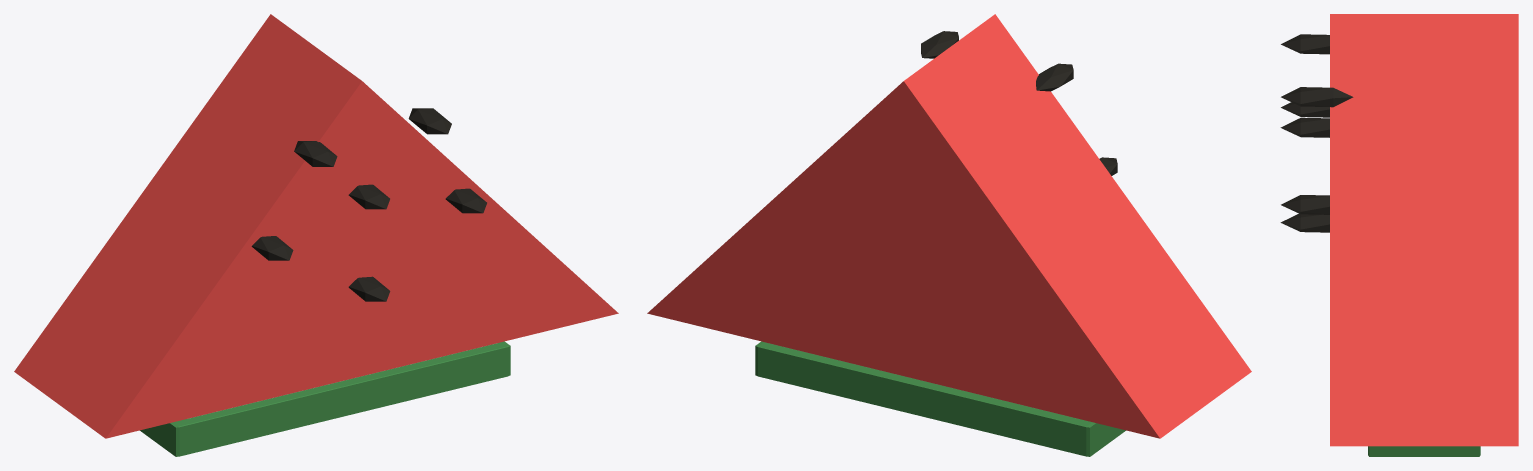
Rendered from watermelon-wedge.glb.
3 views of the same model, side by side, from view 1: azimuth 30°, elevation 25°; view 2: azimuth 150°, elevation 25°; view 3: azimuth 270°, elevation 25° (orthographic). The views are drawn at different scales.
Parts seen in each view (by area): view 1: red triangular watermelon flesh, green outer rind band, black watermelon seed.004, black watermelon seed.003, black watermelon seed.002, black watermelon seed.001, black watermelon seed.005, black watermelon seed; view 2: red triangular watermelon flesh, green outer rind band, black watermelon seed.003, black watermelon seed.004; view 3: red triangular watermelon flesh, green outer rind band, black watermelon seed.004, black watermelon seed.001, black watermelon seed.003, black watermelon seed.002, black watermelon seed.005, black watermelon seed.
Part boxes in pixels (box(x1,y1,x2,y2)): red triangular watermelon flesh: box(14, 14, 618, 438); green outer rind band: box(140, 341, 510, 456); black watermelon seed.004: box(408, 108, 451, 134); black watermelon seed.003: box(294, 141, 337, 166); black watermelon seed.002: box(445, 188, 486, 213); black watermelon seed.001: box(348, 184, 389, 209); black watermelon seed.005: box(348, 276, 390, 301); black watermelon seed: box(251, 236, 293, 260); red triangular watermelon flesh: box(647, 14, 1251, 438); green outer rind band: box(755, 341, 1125, 456); black watermelon seed.003: box(1036, 63, 1073, 91); black watermelon seed.004: box(921, 31, 958, 58); red triangular watermelon flesh: box(1330, 14, 1518, 446); green outer rind band: box(1368, 446, 1480, 456); black watermelon seed.004: box(1281, 87, 1353, 107); black watermelon seed.001: box(1280, 117, 1329, 137); black watermelon seed.003: box(1281, 34, 1329, 54); black watermelon seed.002: box(1281, 195, 1329, 214); black watermelon seed.005: box(1280, 213, 1329, 232); black watermelon seed: box(1281, 102, 1329, 117).
Size of the model in its own units: 1.2 by 0.7803 by 0.4687.
